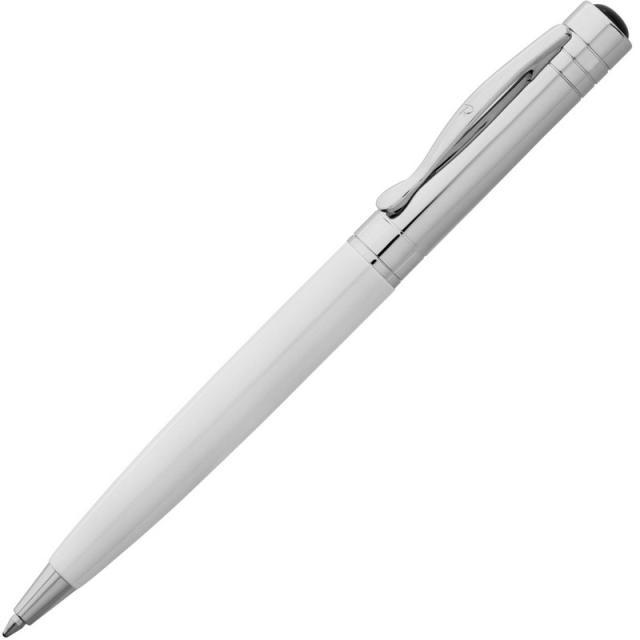pencil: (2, 0, 636, 640)
